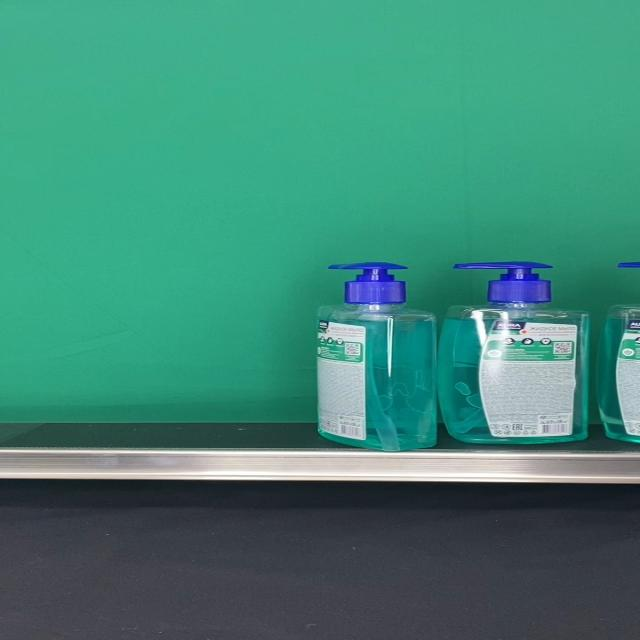Bottle: (438, 261, 588, 444), (316, 262, 438, 452)
Cap: (452, 261, 552, 302), (328, 262, 409, 304)
